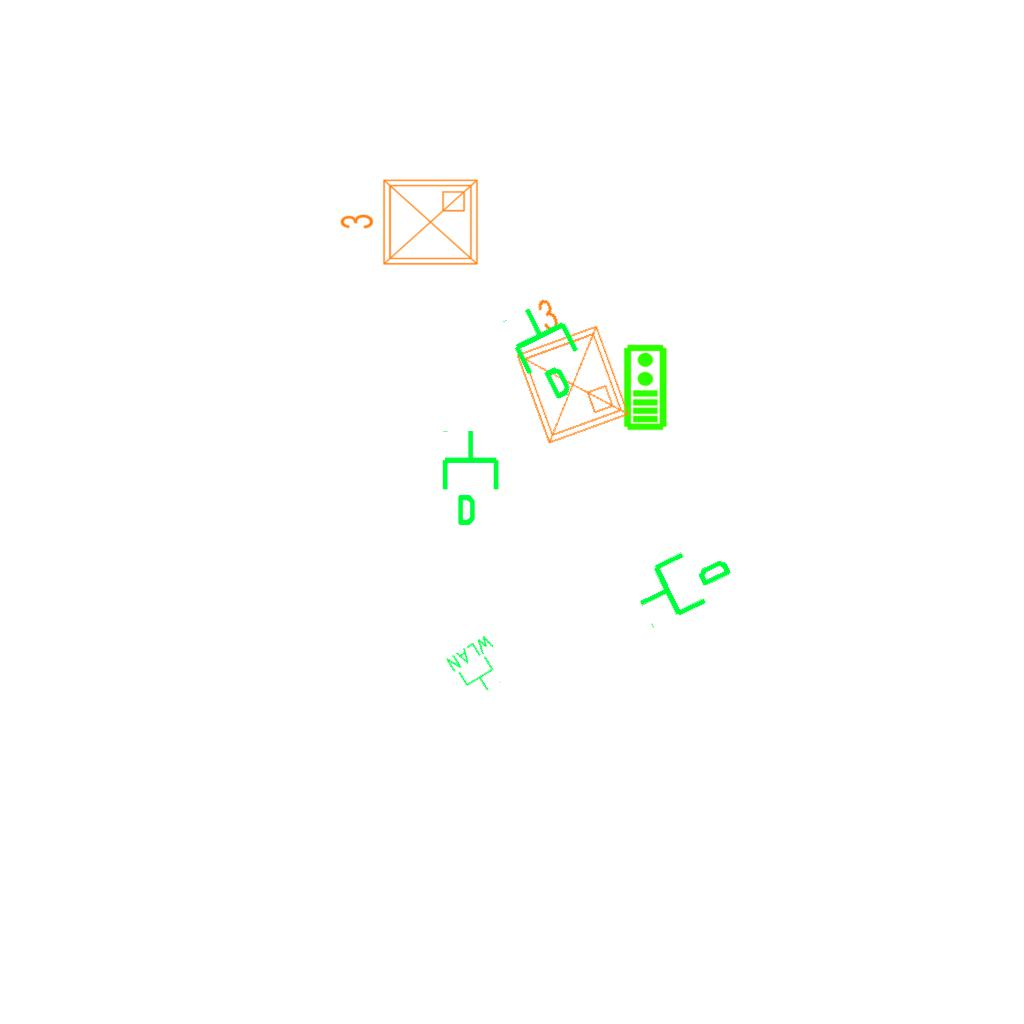Datenanschluss_einfach: (496, 290, 603, 412), (622, 528, 743, 634), (438, 428, 507, 528)
Einbaudownlights_LED_Konferenzraeume: (489, 277, 639, 455), (335, 172, 485, 276)
Gegensprechanlage_mit_Video: (621, 343, 668, 431)
WLAN: (443, 631, 515, 703)
